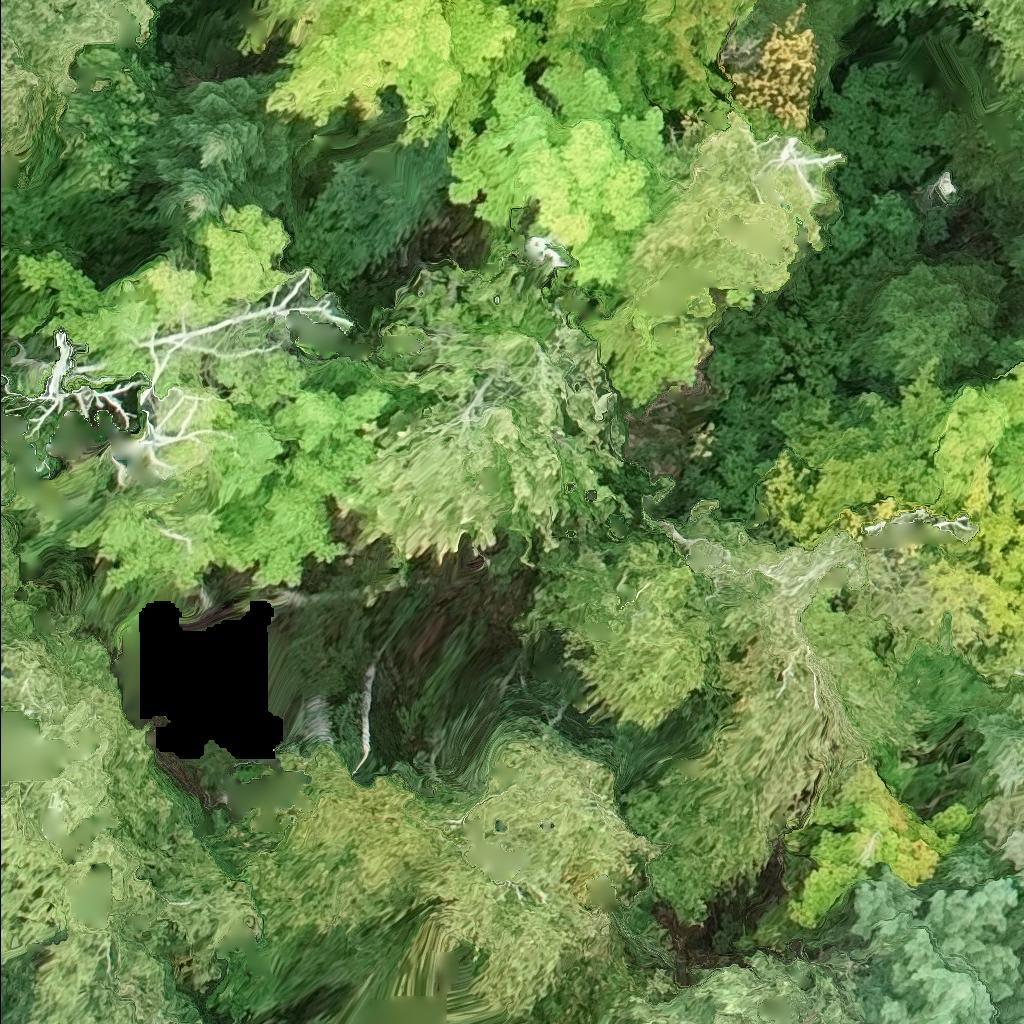crown: (445, 30, 687, 291), (238, 0, 545, 148), (504, 0, 797, 117), (139, 66, 300, 210), (131, 161, 259, 234), (522, 0, 543, 10)
